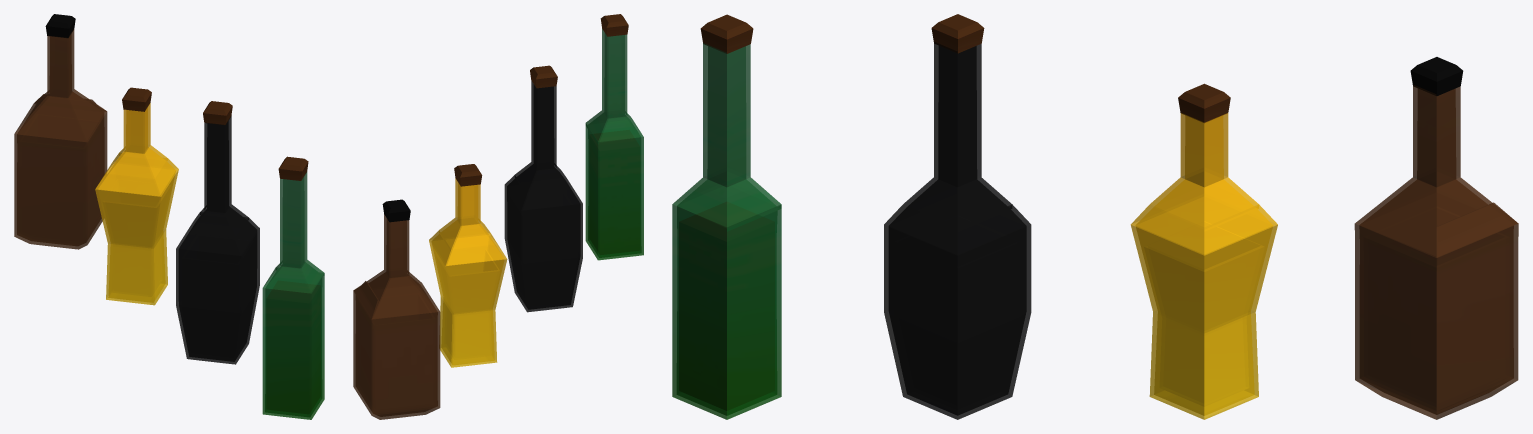
The model's file is bottles_aclcho.fbx.
3 renders of one model, left to right at view 1: azimuth 30°, elevation 25°; view 2: azimuth 150°, elevation 25°; view 3: azimuth 270°, elevation 25°, orthographic. The views are drawn at different scales.
Visible parts, largest first — view 1: Cylinder.007, Cylinder.003, Cylinder, Cylinder.005, Cylinder.001, Cylinder.002, Cylinder.008, Cylinder.006, Cylinder.004; view 2: Cylinder.007, Cylinder.003, Cylinder, Cylinder.005, Cylinder.001, Cylinder.002, Cylinder.004, Cylinder.006, Cylinder.008; view 3: Cylinder.007, Cylinder.003, Cylinder, Cylinder.005, Cylinder.001, Cylinder.002, Cylinder.006, Cylinder.004, Cylinder.008.
Boxes of the visible parts, left/top/right/bottom form: Cylinder.007: left=14, top=29, right=107, bottom=249; Cylinder.003: left=176, top=115, right=259, bottom=364; Cylinder: left=262, top=171, right=324, bottom=419; Cylinder.005: left=95, top=103, right=178, bottom=305; Cylinder.001: left=267, top=281, right=320, bottom=413; Cylinder.002: left=278, top=156, right=308, bottom=180; Cylinder.008: left=122, top=87, right=151, bottom=111; Cylinder.006: left=45, top=14, right=75, bottom=37; Cylinder.004: left=203, top=101, right=232, bottom=124; Cylinder.007: left=353, top=214, right=440, bottom=419; Cylinder.003: left=504, top=80, right=582, bottom=312; Cylinder: left=585, top=28, right=643, bottom=260; Cylinder.005: left=429, top=178, right=507, bottom=367; Cylinder.001: left=590, top=130, right=639, bottom=254; Cylinder.002: left=600, top=14, right=628, bottom=36; Cylinder.004: left=530, top=65, right=557, bottom=88; Cylinder.006: left=382, top=199, right=410, bottom=222; Cylinder.008: left=454, top=164, right=482, bottom=186; Cylinder.007: left=1354, top=84, right=1518, bottom=419; Cylinder.003: left=884, top=42, right=1031, bottom=419; Cylinder: left=672, top=43, right=781, bottom=419; Cylinder.005: left=1130, top=113, right=1277, bottom=419; Cylinder.001: left=679, top=202, right=774, bottom=410; Cylinder.002: left=700, top=14, right=753, bottom=53; Cylinder.006: left=1410, top=57, right=1463, bottom=95; Cylinder.004: left=931, top=14, right=984, bottom=53; Cylinder.008: left=1178, top=83, right=1230, bottom=122.
Bounding box in the file's own units: 300 × 766 × 1548.
8 materials, 8 textured.
